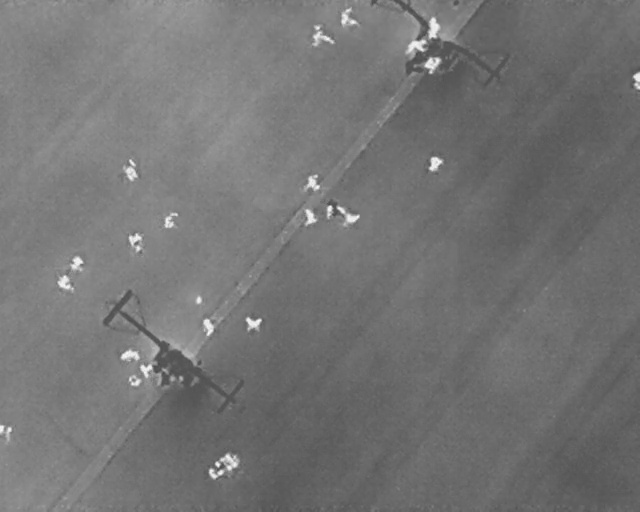Person: (117, 156, 143, 184), (311, 22, 335, 47), (420, 51, 442, 76), (338, 206, 361, 228), (340, 7, 360, 29), (216, 451, 239, 470), (404, 38, 428, 54), (55, 274, 75, 292), (127, 232, 144, 253), (325, 197, 341, 218), (303, 173, 321, 191), (245, 315, 264, 332), (207, 465, 227, 481), (428, 16, 441, 40), (119, 348, 141, 362), (162, 211, 179, 229), (68, 254, 85, 272), (302, 208, 318, 227), (0, 421, 12, 446), (428, 155, 443, 172), (203, 317, 216, 336), (140, 363, 154, 377), (128, 374, 142, 387), (631, 69, 640, 89)
